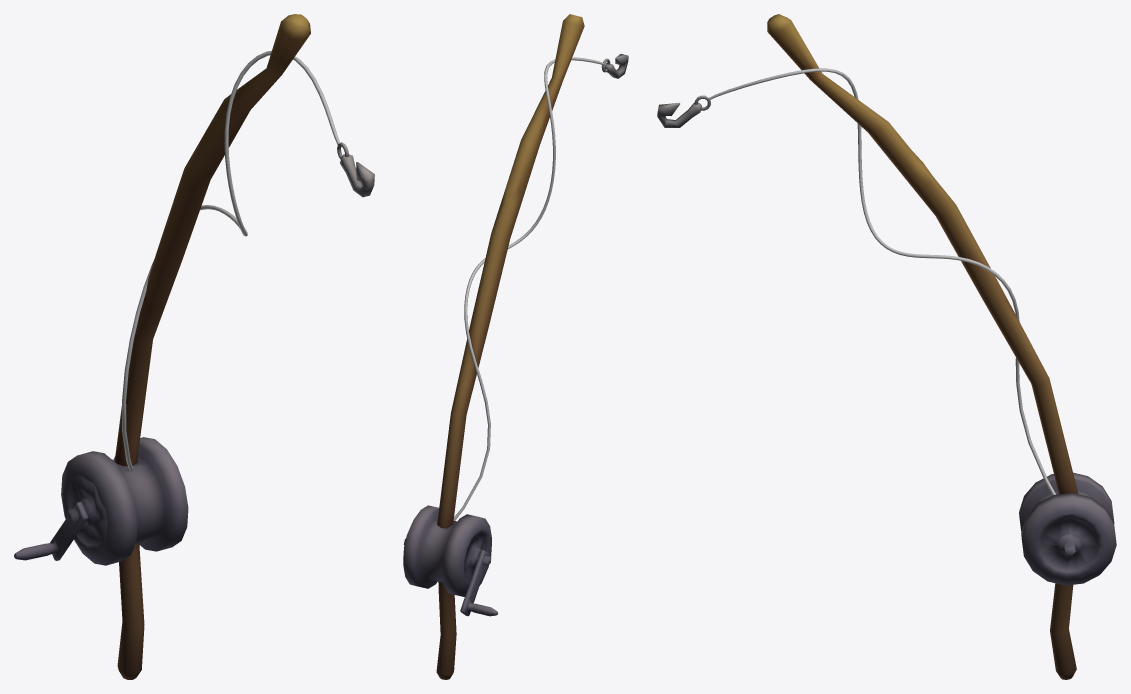
Rendered from Fishing_rod.fbx.
3 views of the same model, side by side, from view 1: azimuth 30°, elevation 25°; view 2: azimuth 150°, elevation 25°; view 3: azimuth 270°, elevation 25° (orthographic). The views are drawn at different scales.
Parts seen in each view (by area): view 1: เบ็ตตตต; view 2: เบ็ตตตต; view 3: เบ็ตตตต.
Boxes of the visible parts, <box> form: เบ็ตตตต: <box>14,14,374,679</box>; เบ็ตตตต: <box>403,14,628,679</box>; เบ็ตตตต: <box>657,14,1116,679</box>.
Bounding box in the file's own units: 66.82 × 347 × 219.
Materials: 1 (1 with a texture image).
